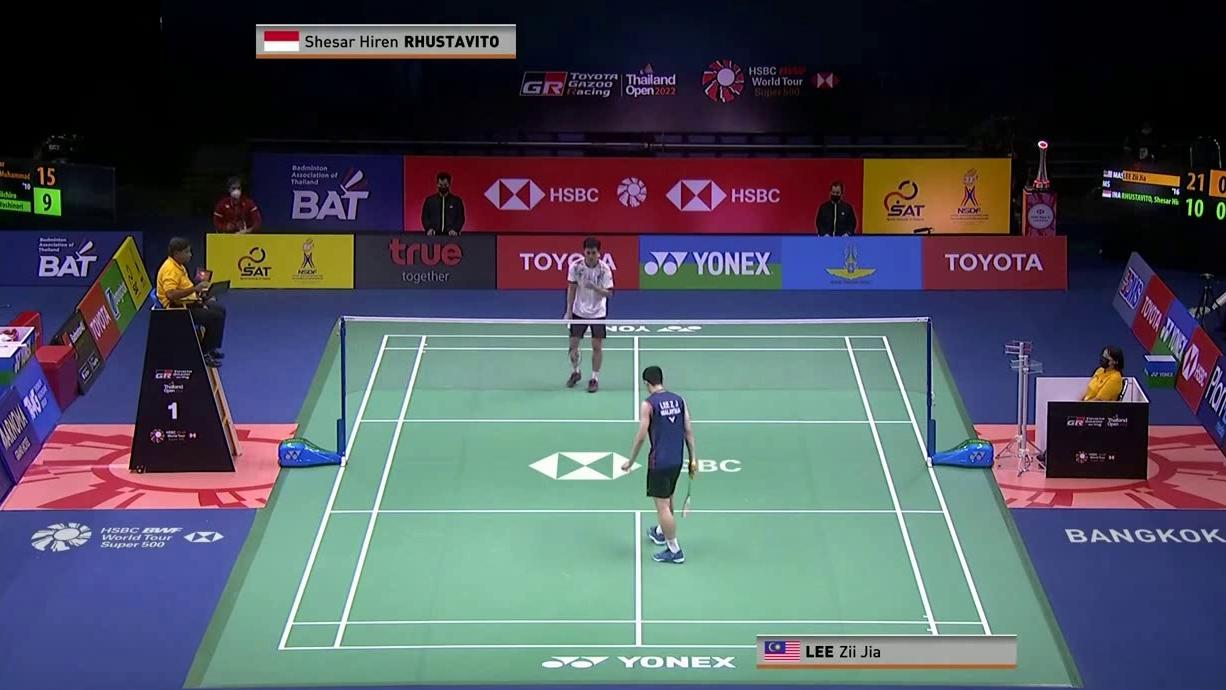racket: (563, 313, 581, 366), (682, 462, 696, 518)
